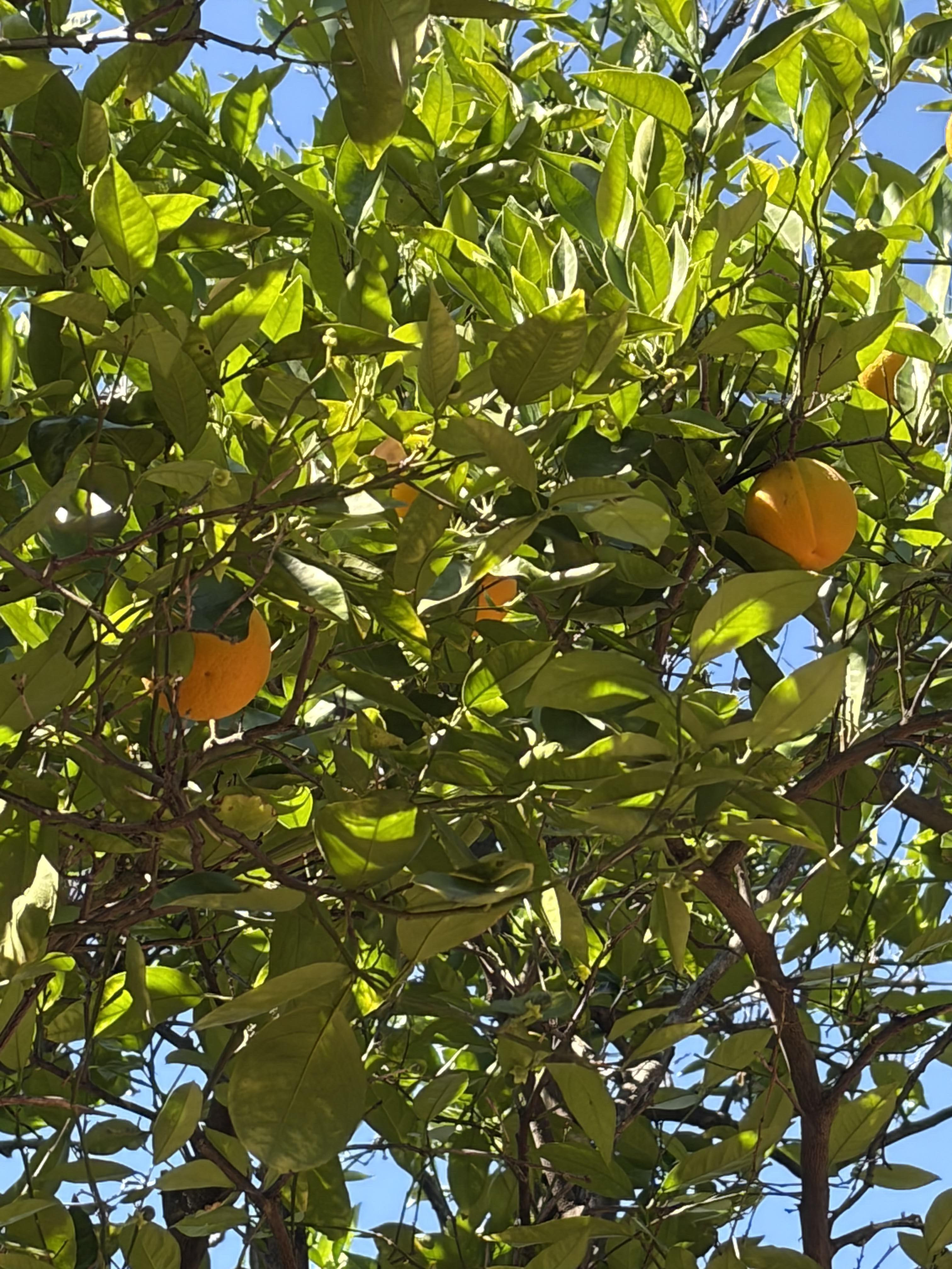orange: (142, 606, 271, 721), (745, 458, 857, 570), (859, 322, 926, 404), (373, 437, 420, 518), (471, 575, 518, 637)
